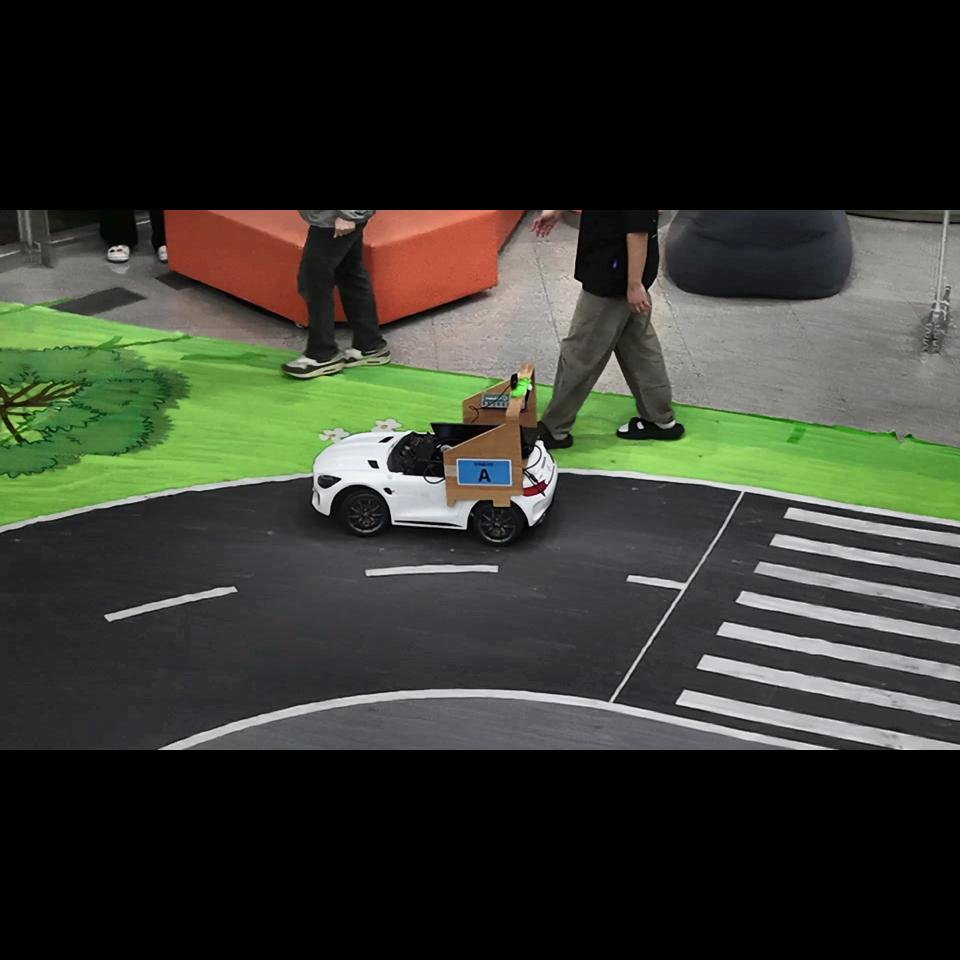broken_line: (103, 586, 238, 622), (364, 564, 499, 577), (626, 575, 685, 590)
crosswalk: (675, 507, 960, 750)
